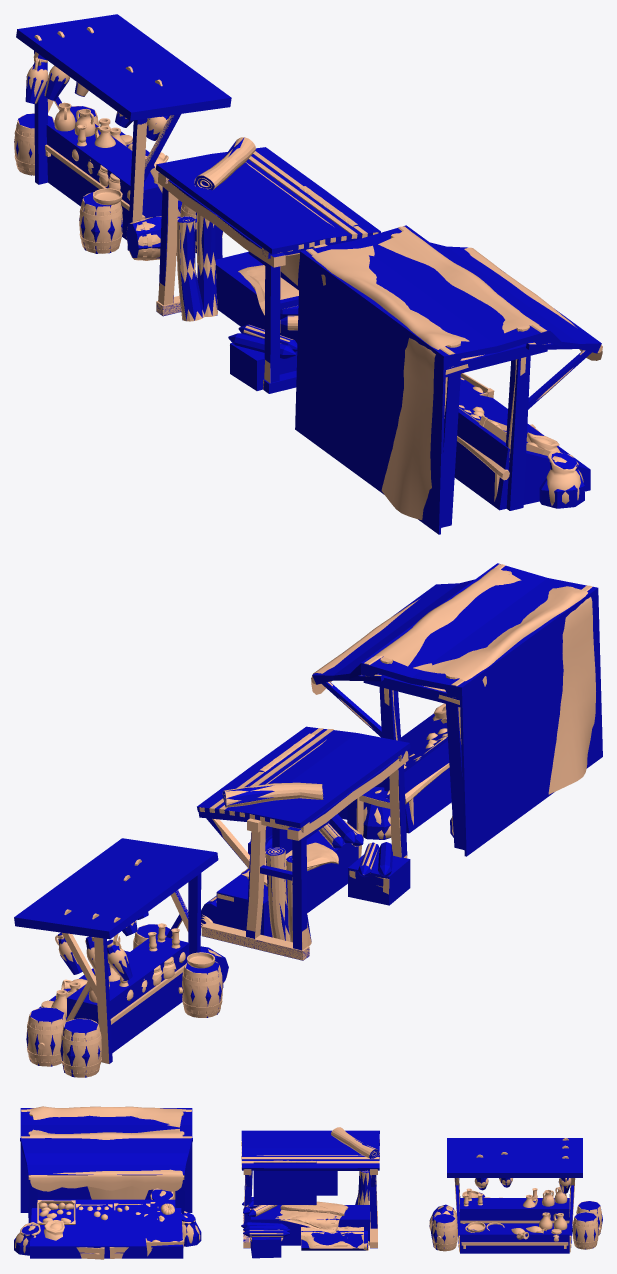
Rendered from Pack_MarketStalls.obj.
3 views of the same model, one above another, from view 1: azimuth 30°, elevation 25°; view 2: azimuth 150°, elevation 25°; view 3: azimuth 270°, elevation 25° (orthographic). The views are drawn at different scales.
Visible parts, largest first — view 1: Cube.056_Cube.138, Cylinder.015_Cylinder.079, Cube.062_Cube.150, Cube.057_Cube.061, Cylinder.054, Cube.067_Cube.051; view 2: Cube.056_Cube.138, Cylinder.015_Cylinder.079, Cube.062_Cube.150, Cube.057_Cube.061, Cube.067_Cube.051, Cylinder.054; view 3: Cube.056_Cube.138, Cylinder.015_Cylinder.079, Cube.062_Cube.150, Cube.057_Cube.061, Cylinder.054, Cube.067_Cube.051.
Boxes of the visible parts, x1,y1,x2,y2 form: Cube.056_Cube.138: (295,225,601,534); Cylinder.015_Cylinder.079: (156,137,380,393); Cube.062_Cube.150: (14,14,231,258); Cube.057_Cube.061: (306,226,602,519); Cylinder.054: (14,27,223,260); Cube.067_Cube.051: (156,137,378,389); Cube.056_Cube.138: (312,563,602,856); Cylinder.015_Cylinder.079: (197,726,410,960); Cube.062_Cube.150: (14,838,228,1077); Cube.057_Cube.061: (311,564,595,839); Cube.067_Cube.051: (199,728,408,960); Cylinder.054: (26,859,228,1077); Cube.056_Cube.138: (14,1108,201,1258); Cylinder.015_Cylinder.079: (241,1130,379,1258); Cube.062_Cube.150: (429,1138,602,1253); Cube.057_Cube.061: (15,1106,200,1259); Cylinder.054: (429,1138,601,1252); Cube.067_Cube.051: (241,1127,379,1250).
Bounding box in the file's own units: 1.82 × 1.79 × 8.65.
